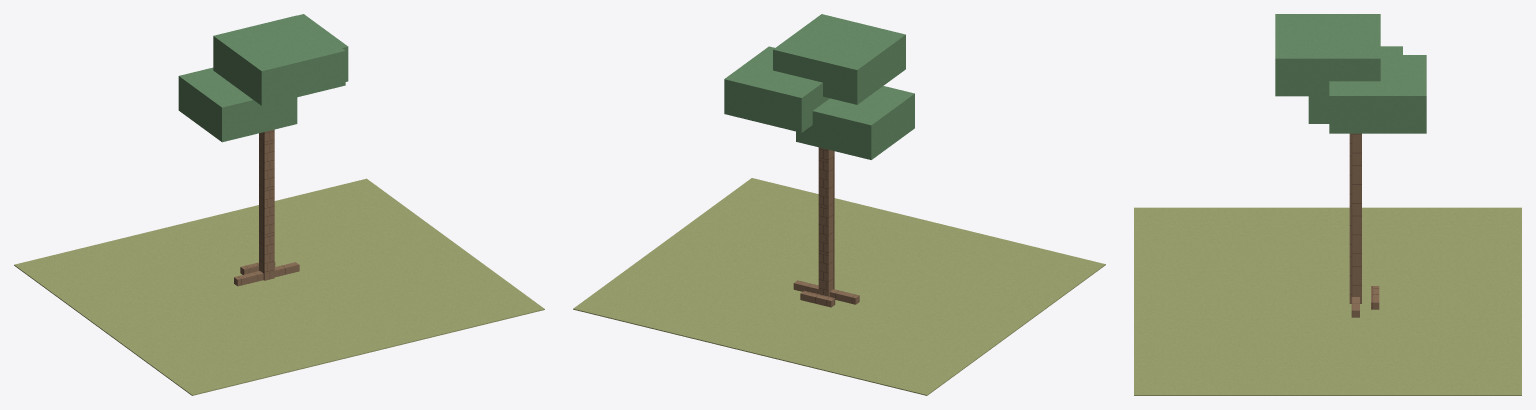
Rendered from plot-garden.glb.
The picture shows the model from 3 angles, left to right: view 1: azimuth 30°, elevation 25°; view 2: azimuth 150°, elevation 25°; view 3: azimuth 270°, elevation 25°; orthographic projection. The views are drawn at different scales.
Size of the model in its own units: 15.96 by 10.57 by 13.96.
Materials: 3 (3 with a texture image).
